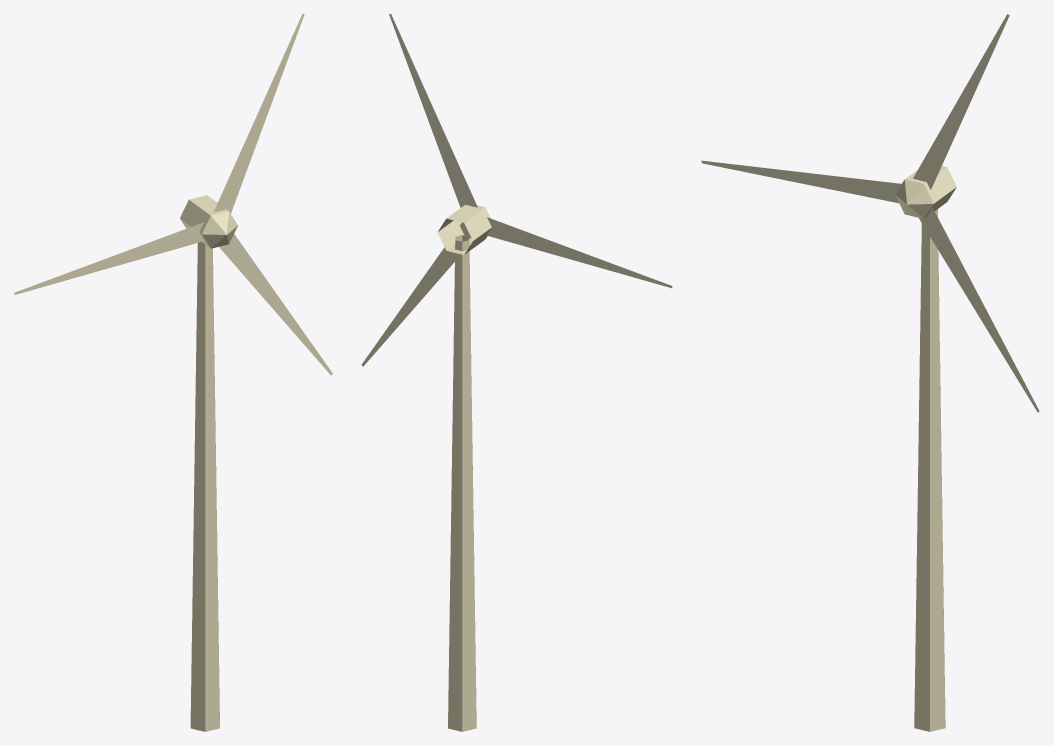
Rendered from windmill_288_mdl.fbx.
The picture shows the model from 3 angles, left to right: view 1: azimuth 30°, elevation 25°; view 2: azimuth 150°, elevation 25°; view 3: azimuth 330°, elevation 25°; orthographic projection. The views are drawn at different scales.
Visible parts, largest first — view 1: windmill_tower_geo, propeller_geo; view 2: windmill_tower_geo, propeller_geo; view 3: windmill_tower_geo, propeller_geo.
Part boxes in pixels (<box>): windmill_tower_geo: <box>180,195,237,731</box>; propeller_geo: <box>14,14,332,375</box>; windmill_tower_geo: <box>437,204,491,731</box>; propeller_geo: <box>361,14,672,366</box>; windmill_tower_geo: <box>895,165,956,731</box>; propeller_geo: <box>701,14,1039,412</box>.
Bounding box in the file's own units: 3296 × 6904 × 517.
